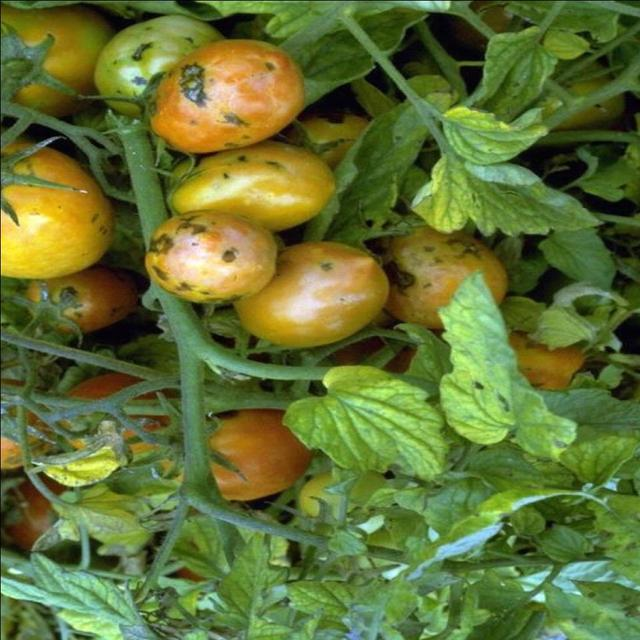Spotted wilt Virus Fruit: (36, 44, 291, 203)
